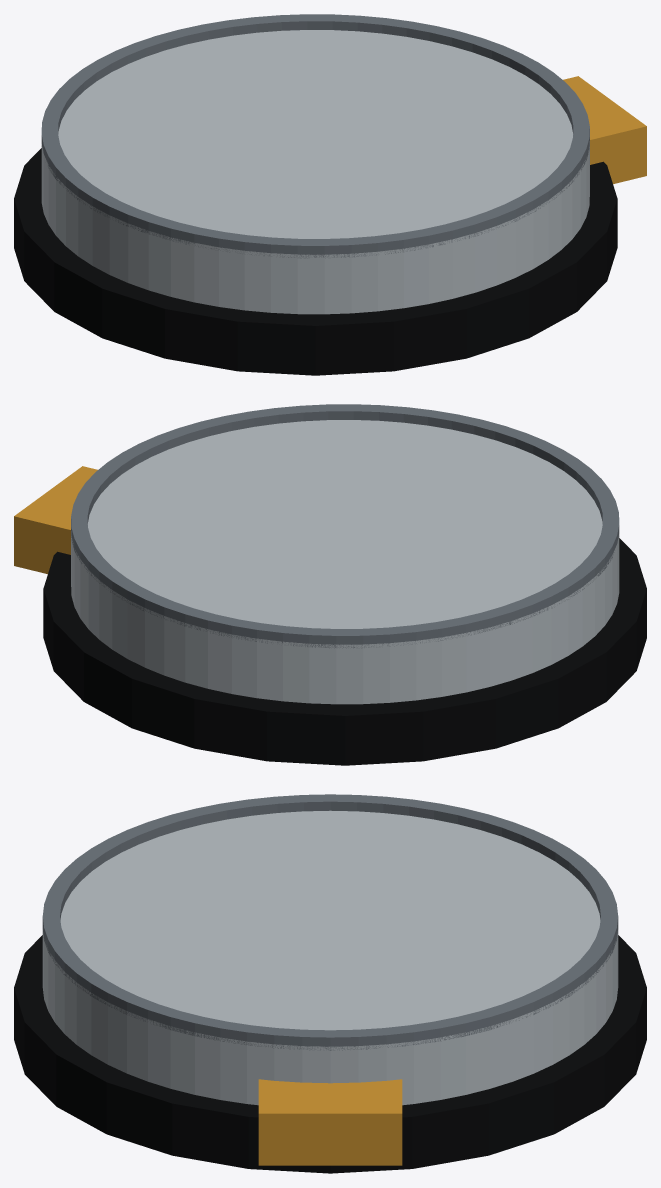
The model's file is L131_CMOS_BATTERY.fbx.
The picture shows the model from 3 angles, top to bottom: view 1: azimuth 30°, elevation 25°; view 2: azimuth 150°, elevation 25°; view 3: azimuth 270°, elevation 25°; orthographic projection. The views are drawn at different scales.
Parts seen in each view (by area): view 1: CMOS_BATTERY_Silver, CMOS_BATTERY_Black, CMOS_BATTERY_Steel, CMOS_BATTERY_Gold; view 2: CMOS_BATTERY_Silver, CMOS_BATTERY_Black, CMOS_BATTERY_Steel, CMOS_BATTERY_Gold; view 3: CMOS_BATTERY_Silver, CMOS_BATTERY_Black, CMOS_BATTERY_Steel, CMOS_BATTERY_Gold.
Part boxes in pixels (<box>): CMOS_BATTERY_Silver: <box>41,30,589,314</box>; CMOS_BATTERY_Black: <box>14,148,617,375</box>; CMOS_BATTERY_Steel: <box>41,14,589,258</box>; CMOS_BATTERY_Gold: <box>563,76,646,184</box>; CMOS_BATTERY_Silver: <box>71,420,619,704</box>; CMOS_BATTERY_Black: <box>43,538,646,765</box>; CMOS_BATTERY_Steel: <box>71,404,619,648</box>; CMOS_BATTERY_Gold: <box>14,466,97,574</box>; CMOS_BATTERY_Silver: <box>42,810,618,1105</box>; CMOS_BATTERY_Black: <box>14,935,646,1173</box>; CMOS_BATTERY_Steel: <box>42,794,618,1050</box>; CMOS_BATTERY_Gold: <box>258,1079,402,1165</box>.
Size of the model in its own units: 2.35 by 0.475 by 2.2.
